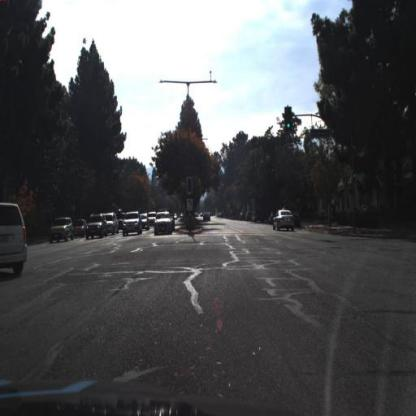car: (1, 203, 29, 281), (48, 217, 76, 245), (272, 208, 297, 236), (87, 211, 109, 241), (153, 210, 175, 237), (123, 212, 144, 238), (75, 215, 87, 241), (108, 213, 120, 238), (204, 212, 213, 226)
trafficLight-Green: (284, 103, 292, 135), (286, 109, 292, 130)
trafficLight-GreenLeft: (188, 180, 193, 198)
